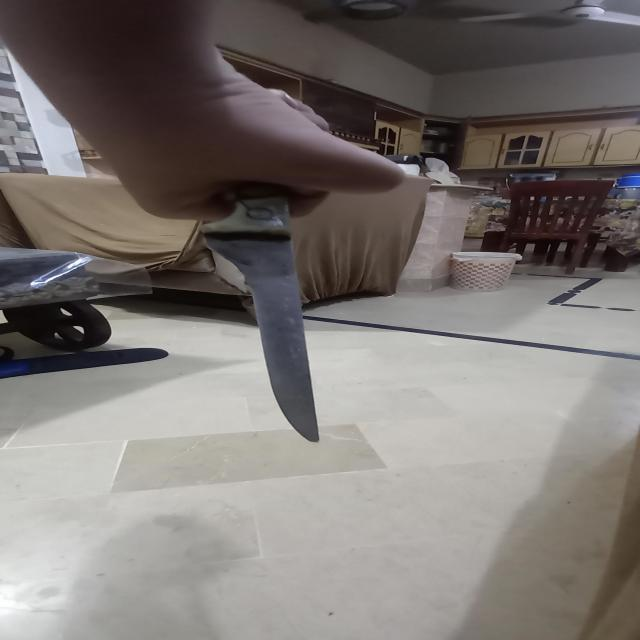Knife: (204, 158, 324, 443)
Person: (0, 0, 413, 223)
